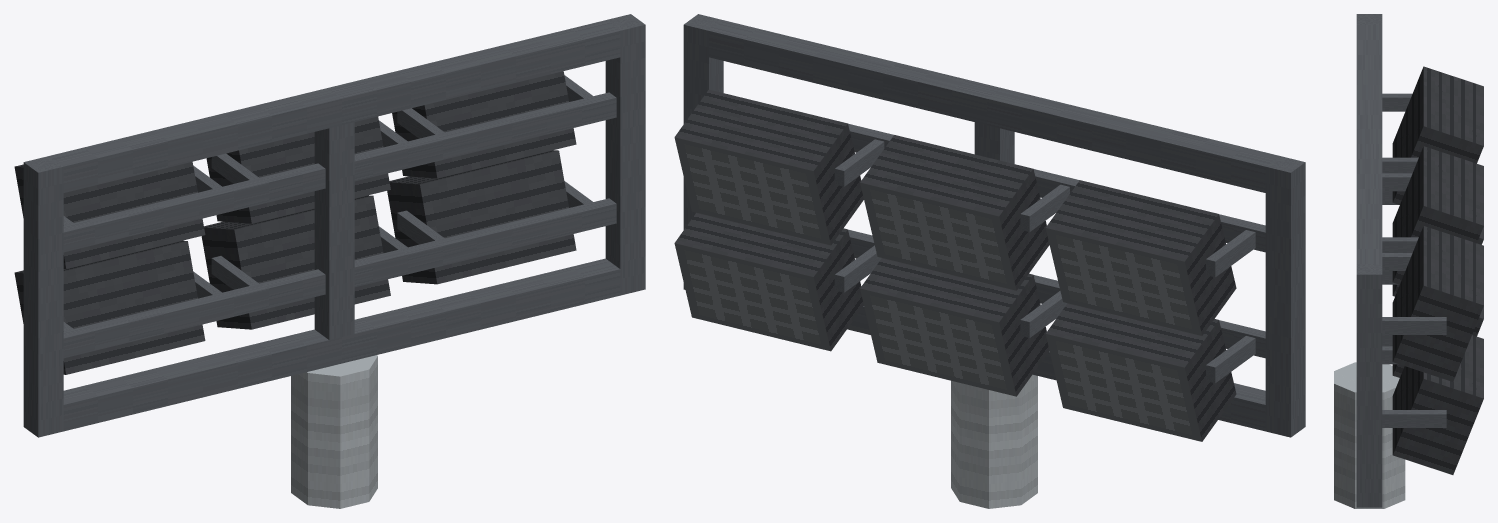
Rendered from head_small_off.obj.
The picture shows the model from 3 angles, left to right: view 1: azimuth 30°, elevation 25°; view 2: azimuth 150°, elevation 25°; view 3: azimuth 270°, elevation 25°; orthographic projection. The views are drawn at different scales.
Visible parts, largest first — view 1: head_small_off; view 2: head_small_off; view 3: head_small_off.
Part boxes in pixels (left/top/right/bottom): head_small_off: left=14, top=14, right=645, bottom=508; head_small_off: left=674, top=14, right=1305, bottom=508; head_small_off: left=1334, top=14, right=1483, bottom=508.
Size of the model in its own units: 3 by 1.88 by 0.7292.
